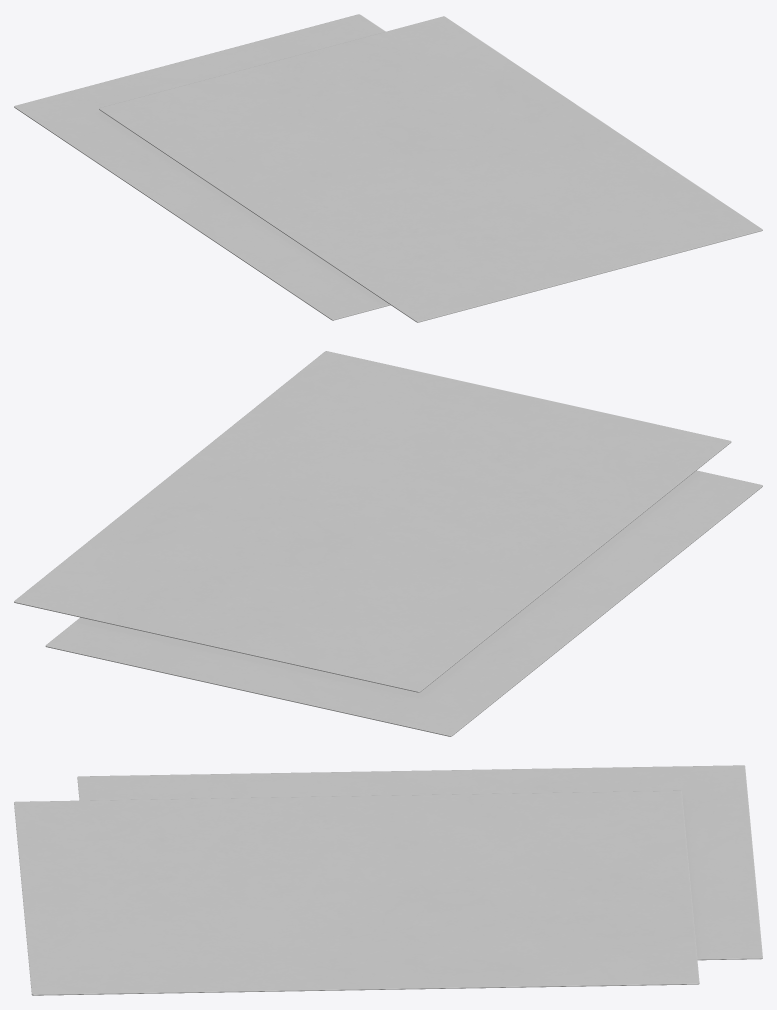
File: stationary_papers_1544.obj
3 renders of one model, top to bottom at view 1: azimuth 30°, elevation 25°; view 2: azimuth 150°, elevation 25°; view 3: azimuth 270°, elevation 25°, orthographic. The views are drawn at different scales.
Parts seen in each view (by area): view 1: stationary_papers_1544; view 2: stationary_papers_1544; view 3: stationary_papers_1544.
Boxes of the visible parts, x1,y1,x2,y2 form: stationary_papers_1544: (14, 14, 762, 322); stationary_papers_1544: (14, 351, 762, 736); stationary_papers_1544: (14, 765, 762, 995).
Size of the model in its own units: 21.01 by 0.264 by 28.31.
Materials: 1 (1 with a texture image).
